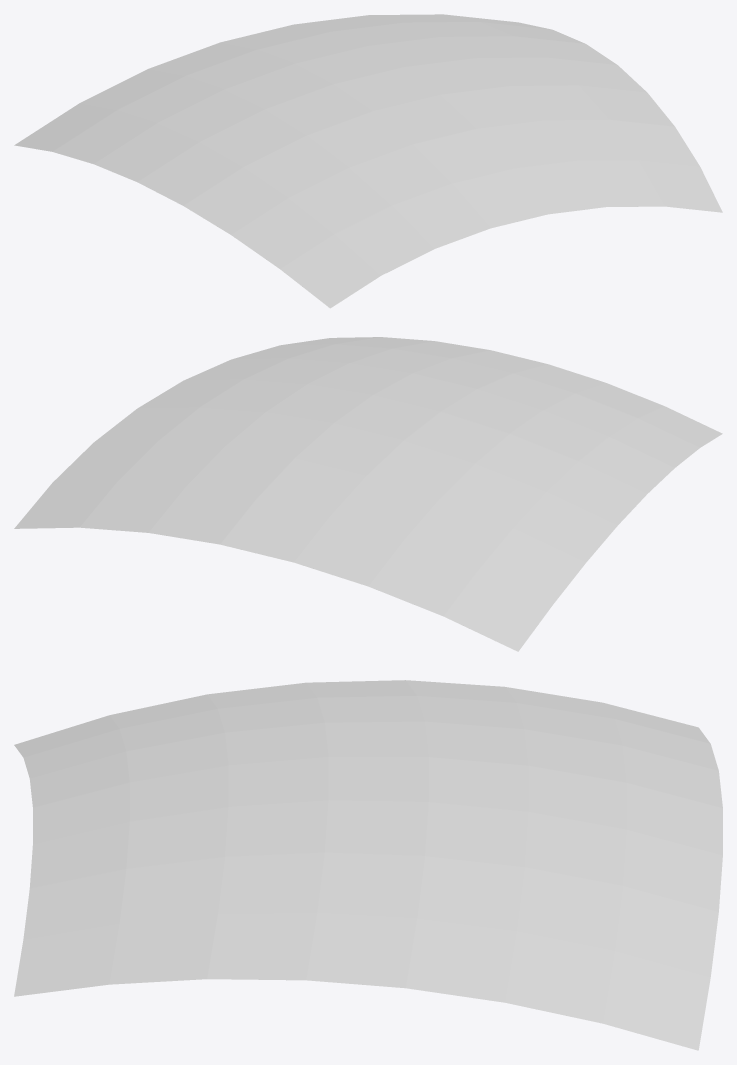
The picture shows the model from 3 angles, top to bottom: view 1: azimuth 30°, elevation 25°; view 2: azimuth 150°, elevation 25°; view 3: azimuth 270°, elevation 25°; orthographic projection. The views are drawn at different scales.
Bounding box in the file's own units: 4464745 × 710594 × 4136125.
Materials: 1 (1 with a texture image).
